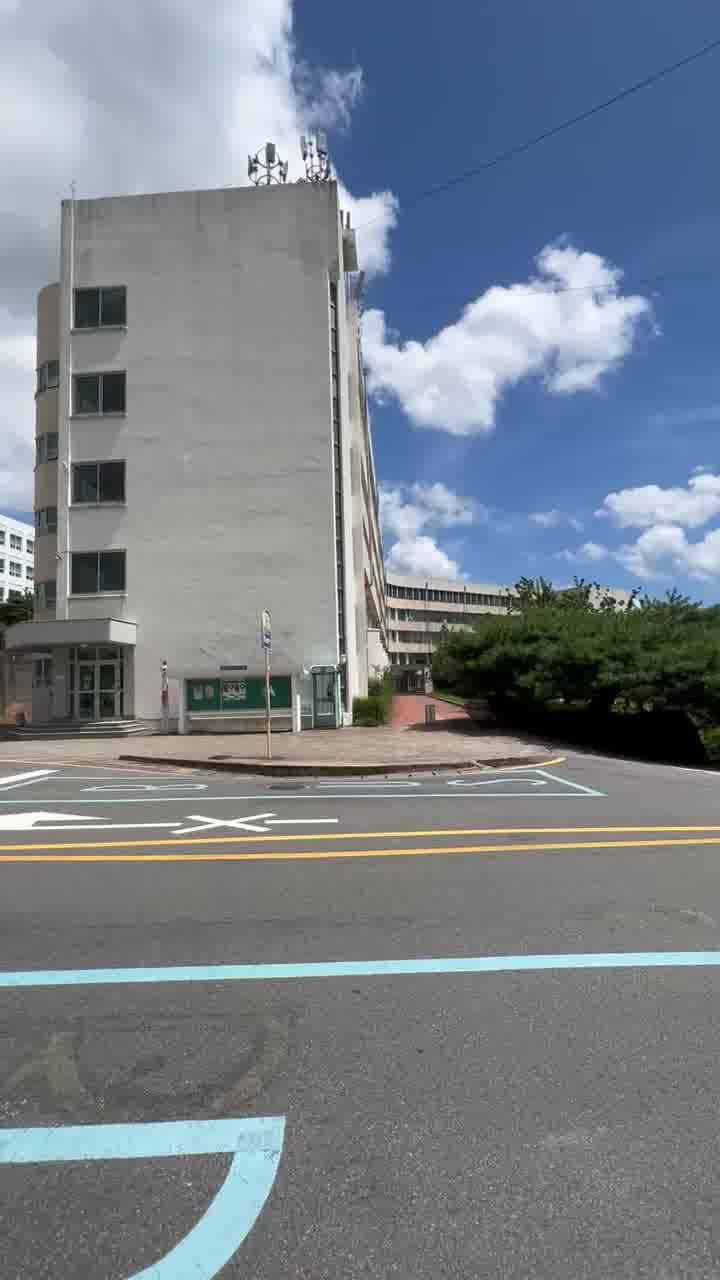building: (24, 154, 408, 706)
